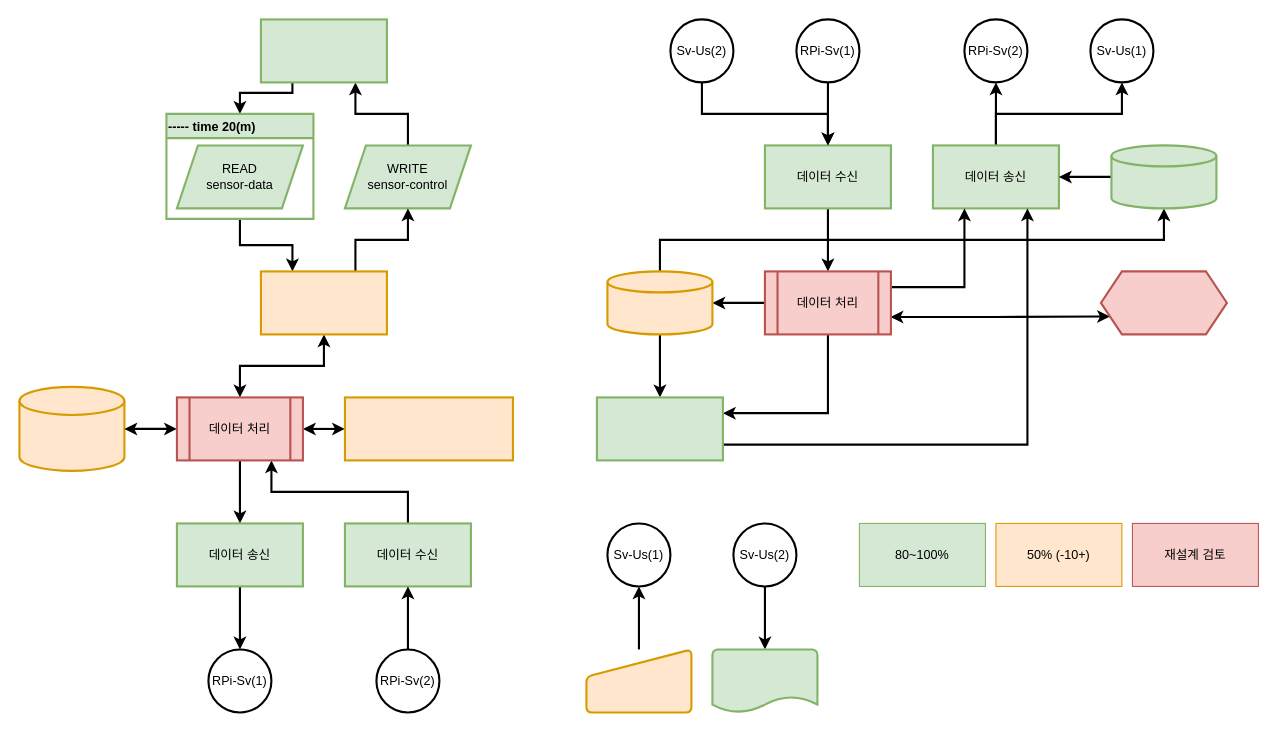
This 1277x731 diagram has some shape labels left out. Here are the shapes that lost their labels. From the top down, the centre of each, then its label:
At (323,50): "HW".
At (1163,176): "식물 생장 조건".
At (323,302): "변화, 생장조건에 따른 HW제어".
At (659,302): "모든 식물 기록".
At (1163,302): "사용자 확인 및 특정".
At (71,428): "1시간 데이터, HW제어 부분".
At (428,428): "송신 - (갱신, 센싱데이터) 수신 - (갱신, 생장조건)".
At (659,428): "보고서 생성".
At (638,680): "갱신요청, 센서 설정".
At (764,680): "현제 상태, 일정 주기 보고서".
